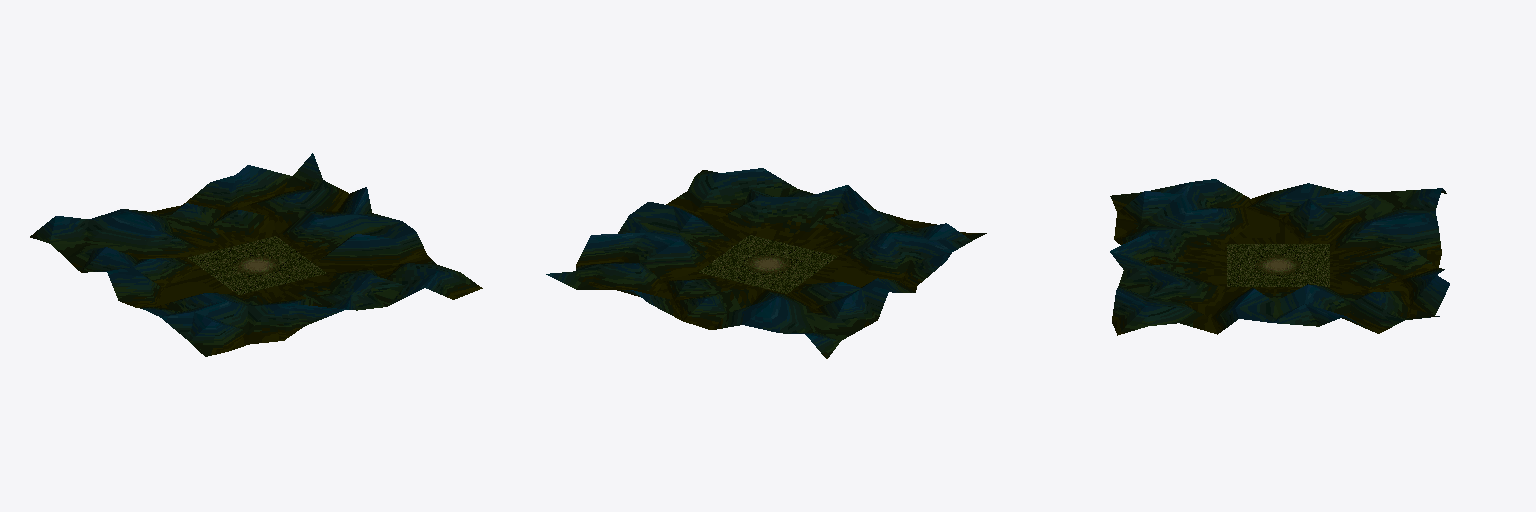
3 renders of one model, left to right at view 1: azimuth 30°, elevation 25°; view 2: azimuth 150°, elevation 25°; view 3: azimuth 270°, elevation 25°, orthographic.
Visible parts, largest first — view 1: field; view 2: field; view 3: field.
Boxes of the visible parts, <box> form: field: <box>30,153,482,356</box>; field: <box>546,168,986,358</box>; field: <box>1110,179,1449,335</box>.
Bounding box in the file's own units: 27.76 × 1.95 × 28.16.
3 materials, 3 textured.